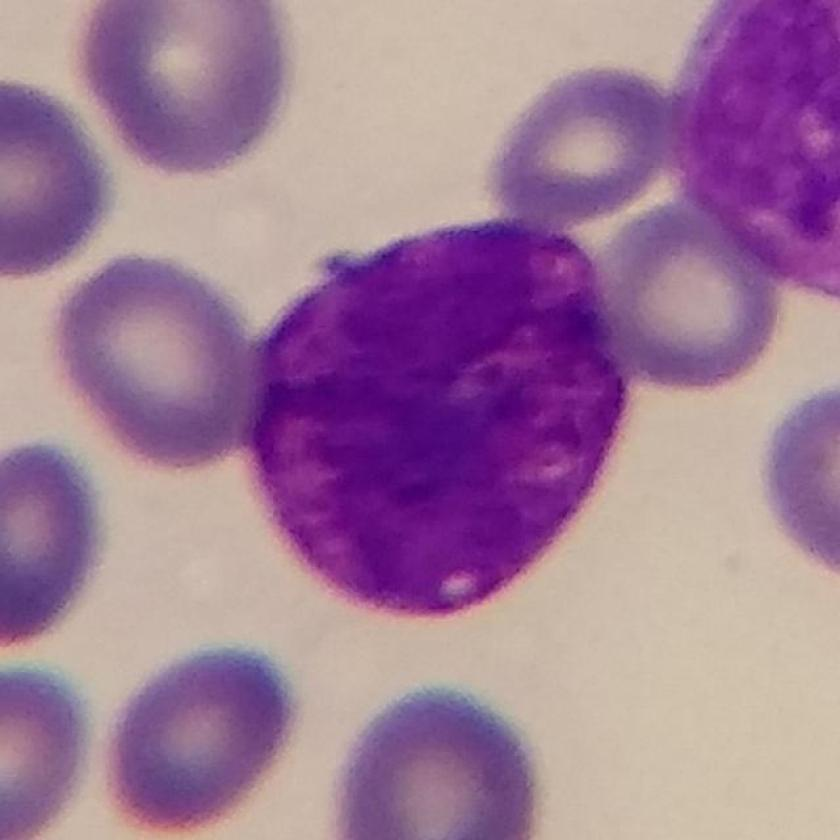basophil: (231, 209, 636, 633)
